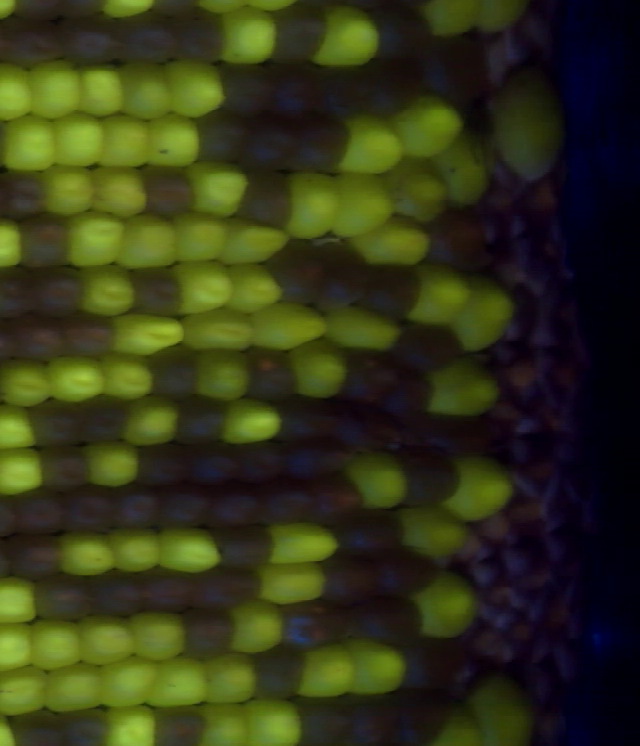fluorescent: (485, 56, 571, 187), (383, 88, 470, 162), (447, 268, 520, 353), (276, 168, 352, 248), (438, 449, 519, 522), (307, 1, 388, 74), (425, 352, 507, 423), (377, 155, 455, 229), (329, 108, 412, 177), (410, 565, 485, 641), (462, 671, 538, 746), (327, 169, 401, 243), (405, 258, 478, 330), (392, 500, 476, 562), (350, 211, 438, 270), (184, 154, 258, 222), (318, 300, 409, 355), (282, 336, 356, 402), (429, 128, 494, 203), (161, 53, 230, 122), (248, 298, 333, 354), (215, 1, 283, 71), (168, 255, 241, 320), (59, 208, 133, 271), (91, 651, 167, 712), (342, 632, 412, 698), (116, 208, 185, 274), (342, 449, 412, 514), (193, 648, 266, 710), (258, 518, 343, 571), (252, 557, 334, 611), (22, 55, 88, 122), (85, 161, 158, 221), (178, 305, 265, 355), (142, 652, 218, 708), (112, 57, 178, 121), (293, 640, 362, 701), (108, 308, 189, 359), (152, 524, 228, 578), (39, 660, 112, 716), (188, 345, 256, 405), (39, 162, 106, 222), (218, 214, 292, 268), (40, 351, 112, 406), (95, 347, 164, 404), (73, 261, 142, 318), (18, 615, 88, 671), (48, 105, 109, 169), (215, 394, 288, 447), (123, 608, 192, 664), (168, 211, 237, 267), (72, 58, 132, 122), (235, 695, 310, 746), (76, 436, 145, 491), (92, 111, 154, 172), (0, 111, 59, 175), (225, 597, 290, 655), (142, 111, 208, 168), (119, 393, 185, 449), (220, 261, 291, 313), (75, 611, 142, 666), (101, 523, 171, 575), (53, 523, 119, 577), (0, 354, 59, 409), (97, 701, 166, 746), (0, 663, 55, 718), (191, 699, 255, 746), (420, 1, 487, 42), (0, 442, 47, 499), (0, 58, 38, 125), (0, 399, 42, 453), (0, 617, 39, 675), (0, 575, 43, 627), (0, 216, 30, 274)
nonfluorescent: (420, 26, 499, 110), (282, 105, 361, 181), (305, 234, 375, 316), (396, 635, 485, 698), (392, 442, 469, 513), (233, 106, 308, 178), (422, 201, 493, 275), (262, 237, 328, 315), (352, 49, 423, 121), (408, 413, 522, 457), (267, 1, 334, 75), (345, 589, 430, 647), (391, 315, 473, 375), (366, 1, 439, 68), (328, 400, 415, 455), (358, 258, 429, 325), (386, 682, 459, 746), (126, 261, 196, 325), (29, 569, 106, 627), (274, 597, 355, 652), (235, 162, 296, 235), (55, 9, 128, 70), (309, 551, 388, 607), (190, 101, 256, 168), (235, 342, 305, 405), (131, 562, 209, 618), (0, 12, 74, 71), (334, 342, 398, 410), (268, 391, 344, 448), (268, 53, 328, 125), (142, 339, 208, 404), (8, 208, 76, 271), (320, 55, 380, 126), (188, 565, 271, 615), (22, 261, 91, 320), (175, 604, 245, 662), (373, 547, 447, 601), (253, 475, 328, 528), (245, 641, 312, 700), (212, 60, 279, 119), (299, 471, 372, 525), (290, 689, 359, 746), (137, 158, 199, 221), (341, 691, 412, 746), (22, 395, 87, 455), (330, 508, 411, 556), (168, 393, 238, 448), (88, 568, 155, 625), (198, 478, 272, 529), (56, 482, 123, 538), (118, 9, 185, 65), (72, 391, 140, 446), (212, 523, 285, 574), (5, 311, 70, 368), (168, 4, 231, 62), (3, 528, 68, 584), (57, 308, 124, 362), (230, 438, 302, 487), (31, 438, 96, 492), (151, 479, 218, 531), (175, 440, 251, 485), (0, 166, 55, 227), (132, 441, 198, 491), (9, 485, 69, 539), (104, 479, 165, 532), (382, 367, 443, 419), (278, 438, 350, 481), (147, 702, 212, 746), (55, 704, 116, 746), (5, 708, 70, 746), (0, 259, 38, 321), (11, 1, 63, 25)
